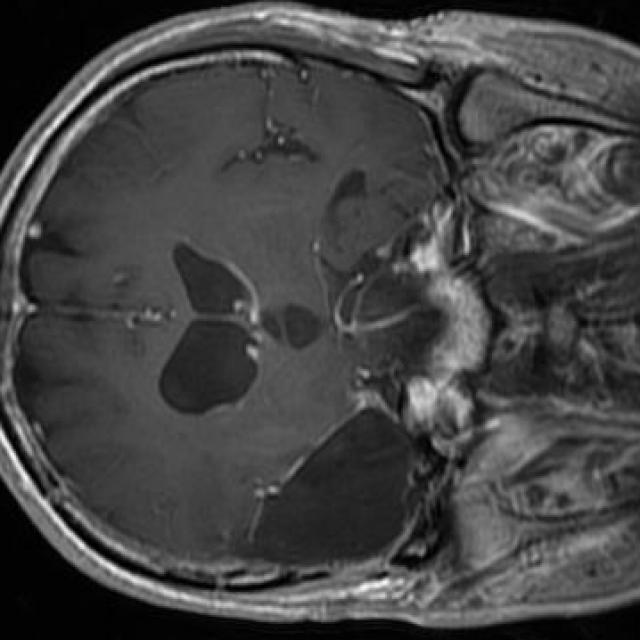glioma: (246, 390, 423, 565)
